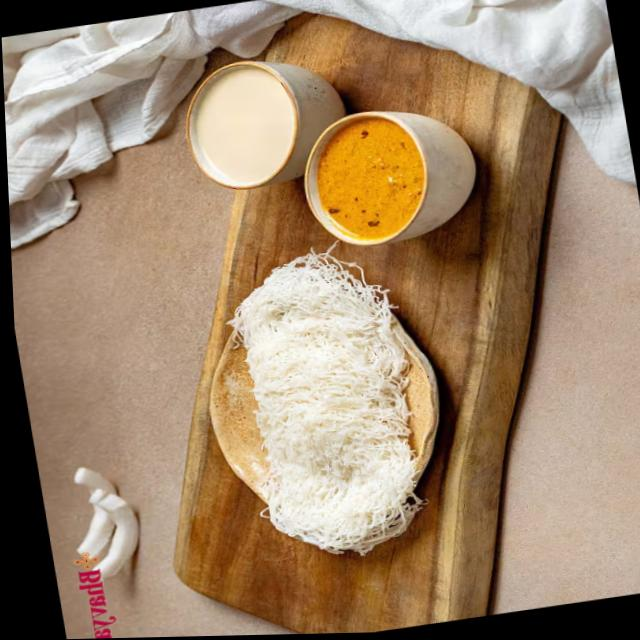CURRY: (317, 117, 422, 240)
IDIYAPPAM: (226, 254, 430, 556)
